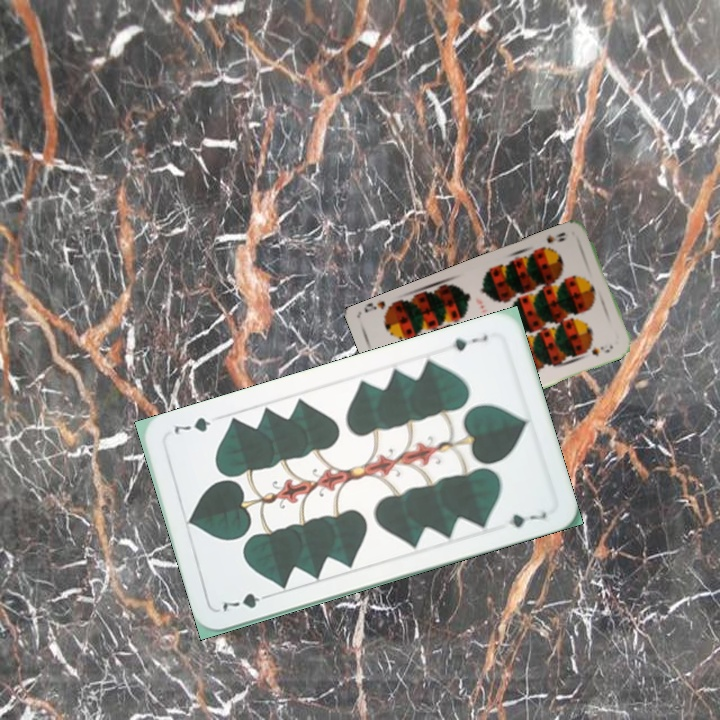G7: (218, 589, 275, 614), (448, 330, 490, 354)
S9: (536, 228, 568, 254)
